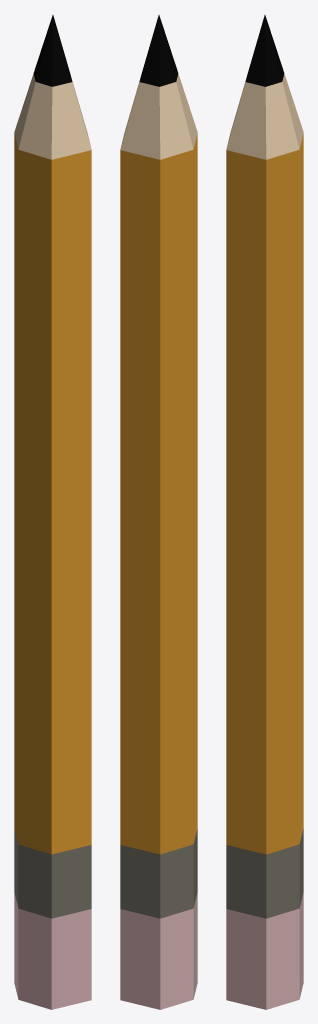
File: Pencil.fbx
3 renders of one model, left to right at view 1: azimuth 30°, elevation 25°; view 2: azimuth 150°, elevation 25°; view 3: azimuth 330°, elevation 25°, orthographic.
Parts seen in each view (by area): view 1: Pencil; view 2: Pencil; view 3: Pencil.
Boxes of the visible parts, x1,y1,x2,y2 form: Pencil: (14,15,91,1009); Pencil: (120,15,197,1009); Pencil: (226,15,303,1009).
Size of the model in its own units: 13.63 by 184 by 12.8.
